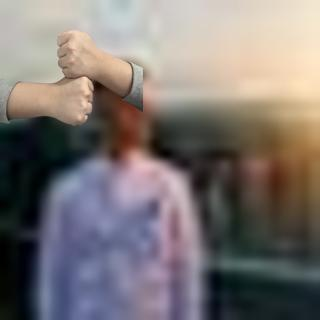CAREFUL: (3, 27, 148, 124)
